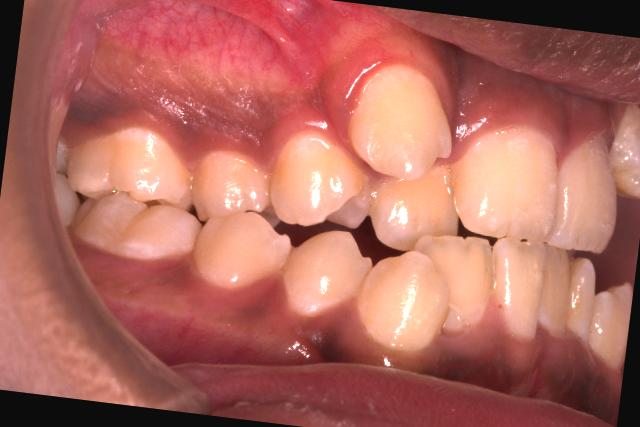canine class II 1/4: (275, 45, 472, 364)
molar class III 1/4: (53, 106, 218, 271)
